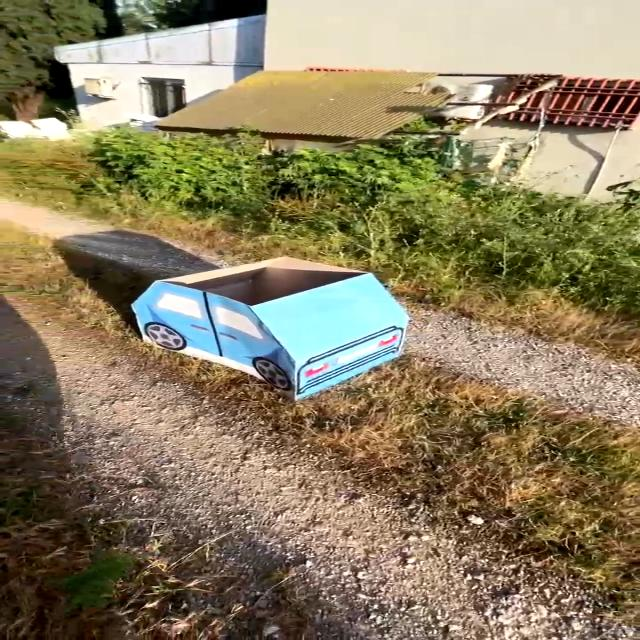blue_car: (45, 222, 450, 430)
